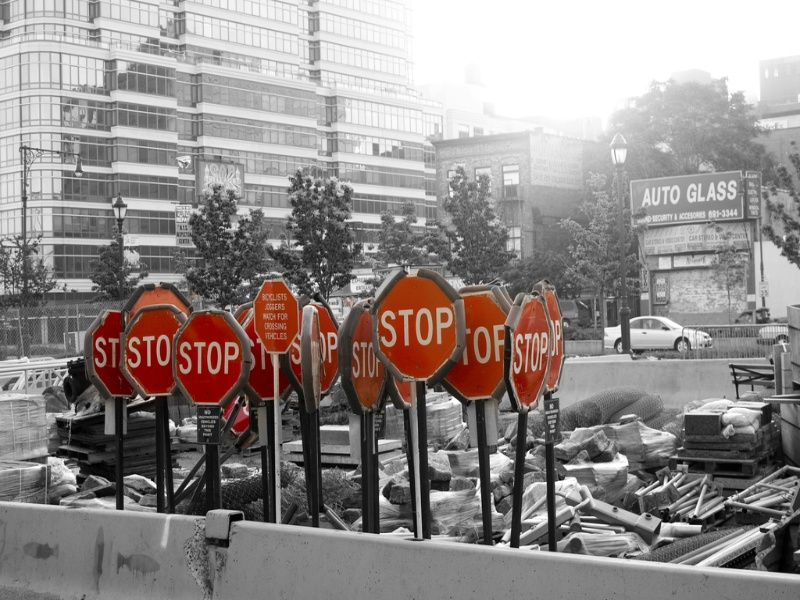stop: (373, 268, 468, 388), (172, 309, 253, 408), (118, 306, 191, 397), (76, 307, 145, 402), (335, 305, 393, 414), (504, 291, 552, 413)
